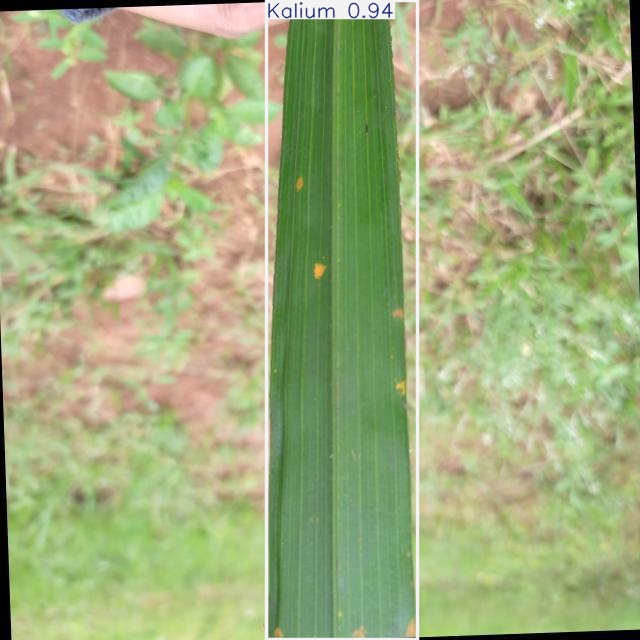Kalium: (267, 0, 417, 640)
